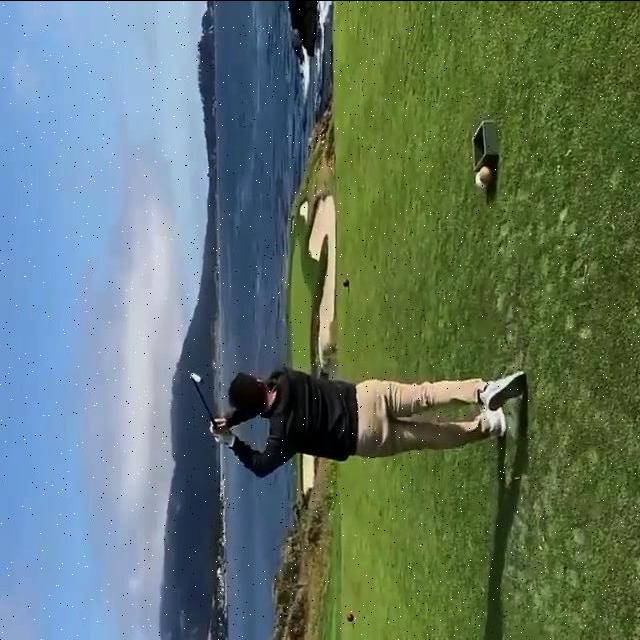golf club-handle: (188, 368, 218, 427)
golf club-head: (188, 371, 201, 381)
